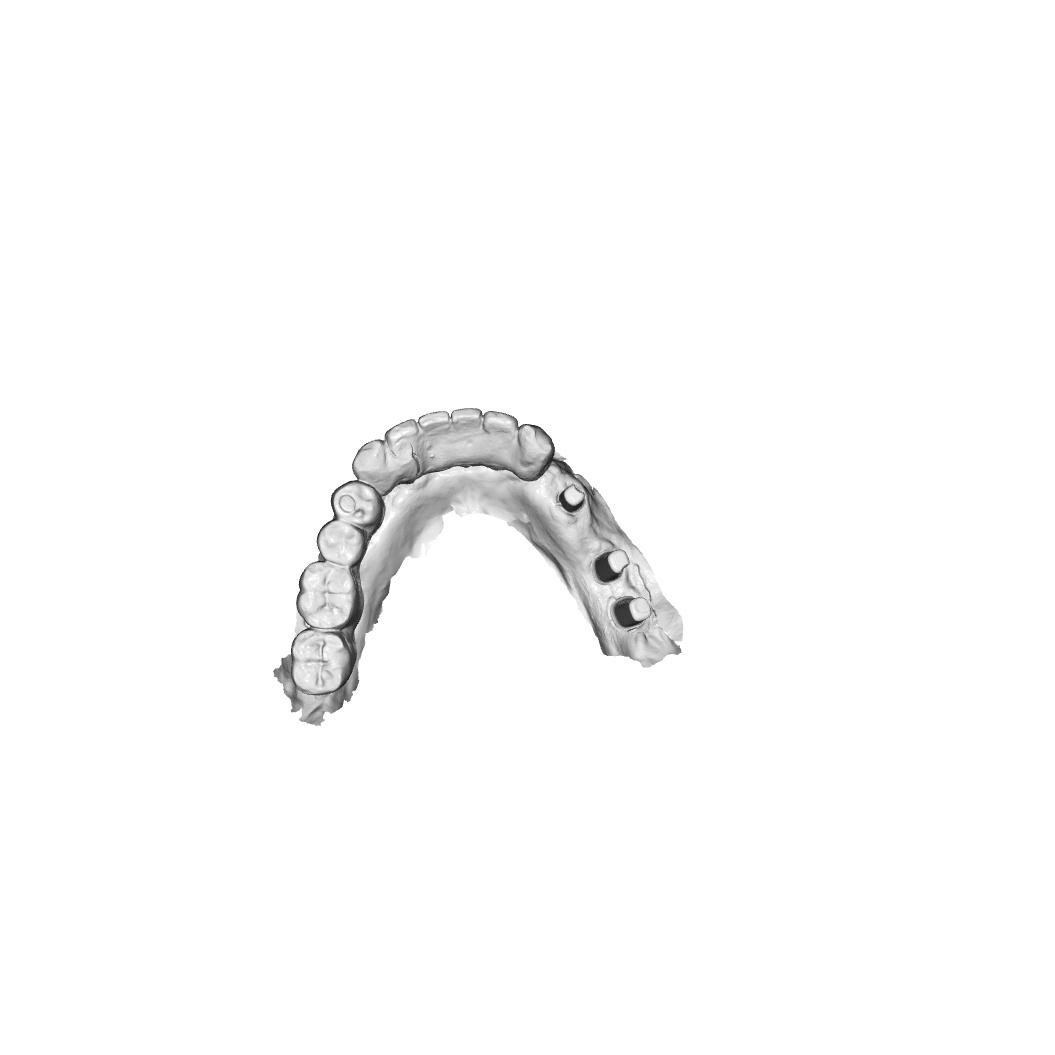abutment: (609, 595, 652, 632), (591, 548, 631, 584), (557, 483, 588, 516)
canine: (351, 438, 396, 497), (515, 423, 555, 482)
incisor: (383, 417, 420, 486), (483, 410, 519, 472), (417, 410, 452, 473), (450, 406, 483, 468)
molar: (296, 560, 364, 631), (290, 626, 357, 696)
premolar: (330, 480, 387, 533), (316, 519, 369, 567)
